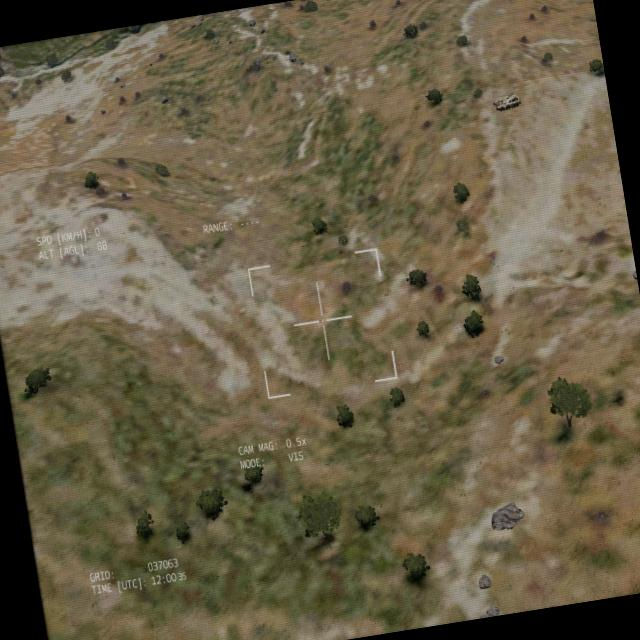tank: (484, 92, 522, 115)
